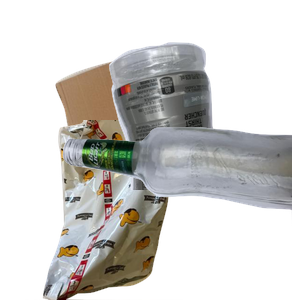cardboard: (53, 45, 221, 204)
glass: (60, 124, 300, 300)
plastic: (106, 40, 300, 220)
trash: (25, 120, 198, 300)
